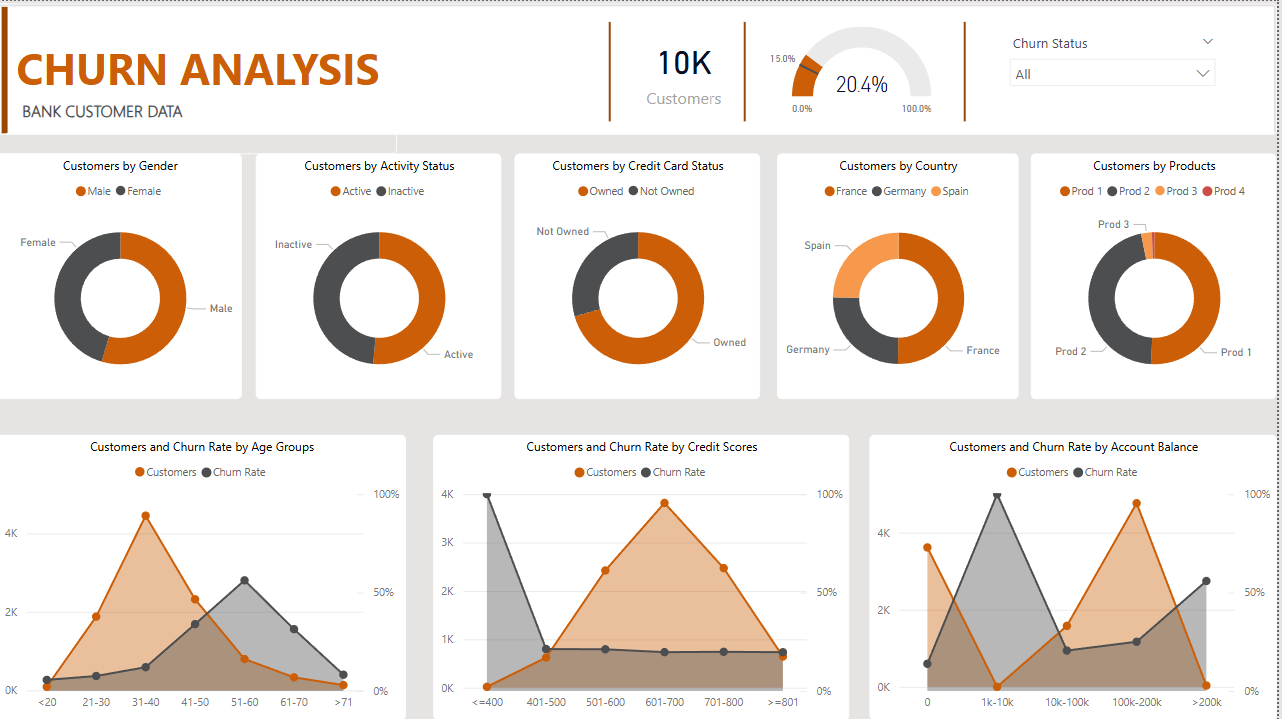

Layout of this report page (visuals, bound fields, positions):
{"tool":"powerbi","page":{"name":"Page 1","canvas":[1280,720],"ordinal":0},"visuals":[{"type":"shape","box":[0,2.9,1280,131.4],"z":0},{"type":"card","fields":{"Values":["Customer Data.Customers"]},"box":[608.6,25.2,154.3,88.6],"z":1000},{"type":"donutChart","fields":{"Category":["Customer Data.Gender"],"Y":["Customer Data.Customers"]},"box":[0,152.9,245,245.7],"z":2000},{"type":"donutChart","fields":{"Y":["Customer Data.Customers"],"Category":["Customer Data.Activity Status"]},"box":[258.6,152.9,245.7,245.7],"z":3000},{"type":"donutChart","fields":{"Y":["Customer Data.Customers"],"Category":["Customer Data.Credit Card Status"]},"box":[517.1,152.9,245.7,245.7],"z":4000},{"type":"donutChart","fields":{"Y":["Customer Data.Customers"],"Category":["Customer Data.Country"]},"box":[780,152.9,241.4,245.7],"z":5000},{"type":"donutChart","fields":{"Y":["Customer Data.Customers"],"Category":["Customer Data.Products"]},"box":[1034.3,152.9,245.7,245.7],"z":6000},{"type":"areaChart","fields":{"Category":["Age Groups.Age Groups"],"Y":["Customer Data.Customers"],"Y2":["Customer Data.Churn Rate"]},"box":[0,434.3,408.6,285.7],"z":7000},{"type":"areaChart","fields":{"Category":["Credit Score Groups.Credit Scores"],"Y":["Customer Data.Customers"],"Y2":["Customer Data.Churn Rate"]},"box":[435.7,434.3,415.7,285.7],"z":8000},{"type":"areaChart","fields":{"Category":["Acct Balance Groups.Account Balance"],"Y":["Customer Data.Customers"],"Y2":["Customer Data.Churn Rate"]},"box":[872.9,434.3,407.1,285.7],"z":9000},{"type":"slicer","fields":{"Values":["Customer Data.Churn Status"]},"box":[1000,25.2,231.4,88.6],"z":10000},{"type":"gauge","fields":{"Y":["Customer Data.Churn Rate"],"MinValue":["Min(Customer Data.Min Churn Rate)"],"MaxValue":["Max(Customer Data.Max Churn Rate)"],"TargetValue":["Max(Customer Data.Target Churn Rate)"]},"box":[744.3,17.4,214.3,104.3],"z":11000},{"type":"textbox","box":[0,30,435.7,97.1],"z":12000},{"type":"textbox","box":[0,90,400,62.9],"z":13000},{"type":"shape","box":[578.6,17.4,65.7,104.3],"z":13001},{"type":"shape","box":[714.3,17.4,65.7,104.3],"z":13002},{"type":"shape","box":[934.3,17.4,65.7,104.3],"z":13003},{"type":"shape","box":[0,2.9,12.9,131.4],"z":13004}]}

Visuals, with their boxes in screenshot pixels (x1, y1, x2, y2), scaled from the page's 1280x720 canvas onto the 1282x719 screenshot:
shape: box=[0, 3, 1281, 134]
card - Customer Data.Customers: box=[610, 25, 764, 114]
donutChart - Customer Data.Gender x Customer Data.Customers: box=[0, 153, 245, 398]
donutChart - Customer Data.Customers x Customer Data.Activity Status: box=[259, 153, 505, 398]
donutChart - Customer Data.Customers x Customer Data.Credit Card Status: box=[518, 153, 764, 398]
donutChart - Customer Data.Customers x Customer Data.Country: box=[781, 153, 1023, 398]
donutChart - Customer Data.Customers x Customer Data.Products: box=[1036, 153, 1281, 398]
areaChart - Age Groups.Age Groups x Customer Data.Customers: box=[0, 434, 409, 718]
areaChart - Credit Score Groups.Credit Scores x Customer Data.Customers: box=[436, 434, 853, 718]
areaChart - Acct Balance Groups.Account Balance x Customer Data.Customers: box=[874, 434, 1281, 718]
slicer - Customer Data.Churn Status: box=[1002, 25, 1233, 114]
gauge - Customer Data.Churn Rate x Min(Customer Data.Min Churn Rate): box=[745, 17, 960, 122]
textbox: box=[0, 30, 436, 127]
textbox: box=[0, 90, 401, 153]
shape: box=[580, 17, 645, 122]
shape: box=[715, 17, 781, 122]
shape: box=[936, 17, 1002, 122]
shape: box=[0, 3, 13, 134]
